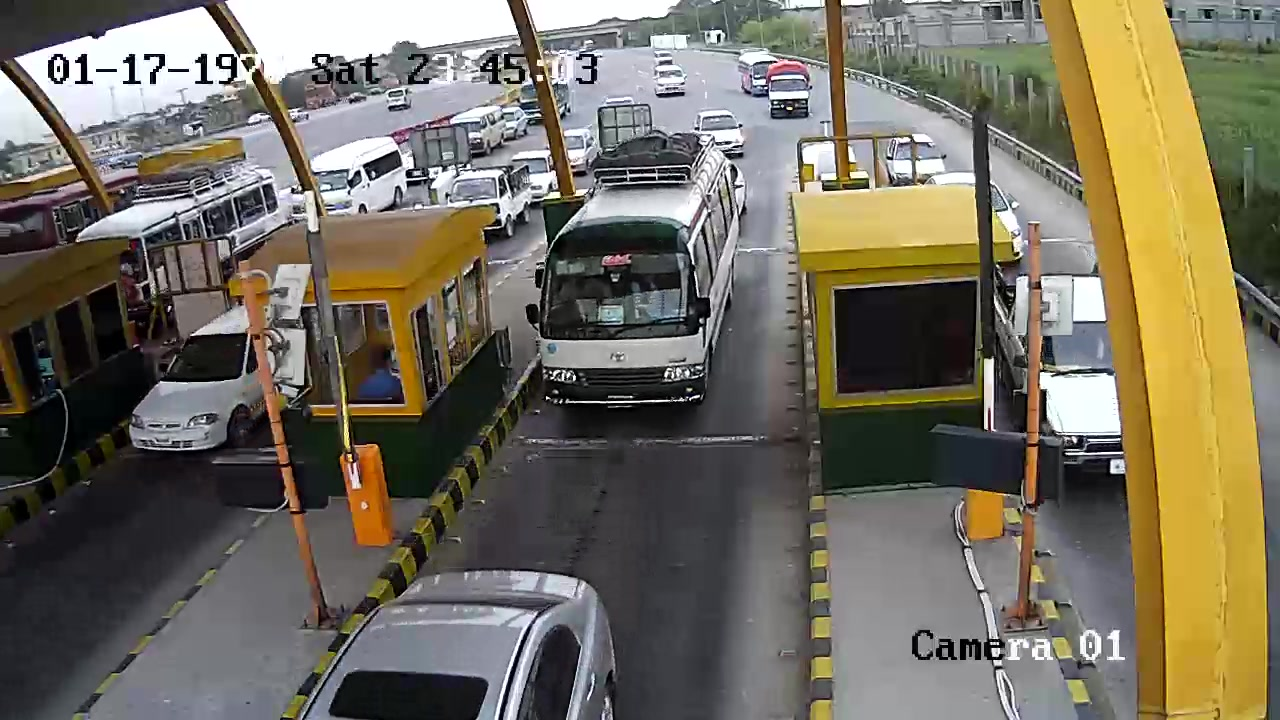F3: (535, 126, 739, 421)
